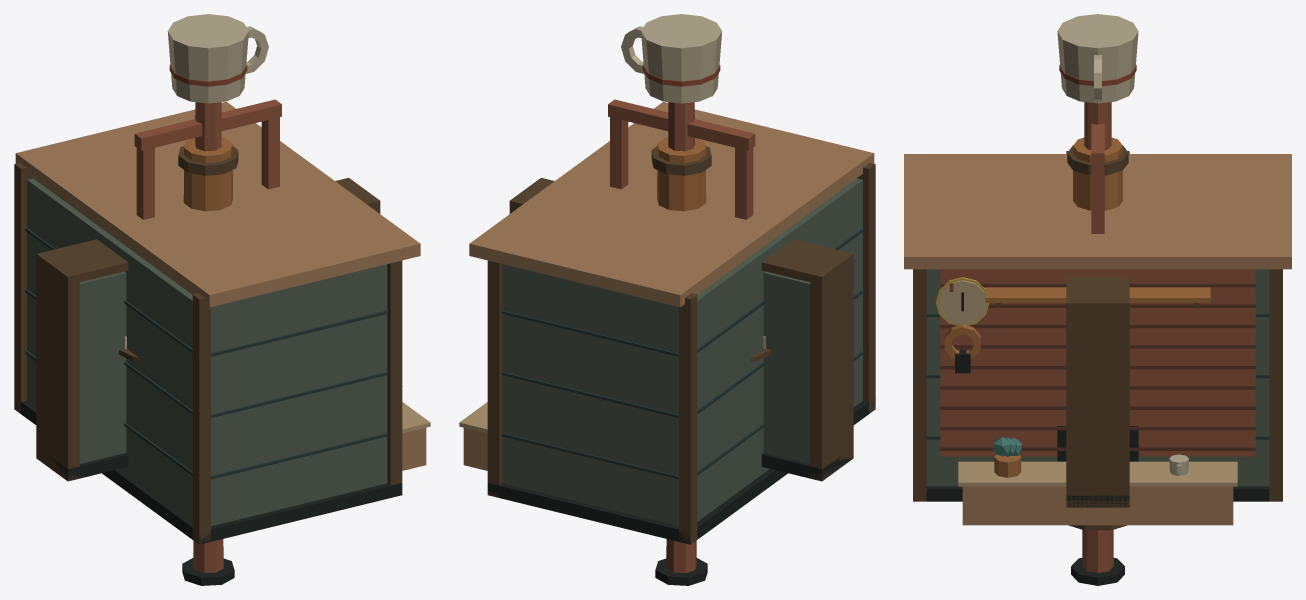
File: bay_kit.glb
3 renders of one model, left to right at view 1: azimuth 30°, elevation 25°; view 2: azimuth 150°, elevation 25°; view 3: azimuth 270°, elevation 25°, orthographic.
Parts seen in each view (by area): view 1: BayCabin, BayYardWall, CradleMast, BayBellFrame, BayPost; view 2: BayCabin, BayYardWall, CradleMast, BayBellFrame, BayPost; view 3: BayCabin, BayYardWall, CradleMast, BayPost, BayBellFrame.
Boxes of the visible parts, x1,y1,x2,y2 form: BayCabin: [14, 102, 430, 544]; BayYardWall: [36, 177, 380, 481]; CradleMast: [167, 14, 268, 585]; BayBellFrame: [134, 99, 281, 219]; BayPost: [178, 137, 238, 211]; BayCabin: [459, 102, 875, 544]; BayYardWall: [509, 177, 853, 481]; CradleMast: [621, 14, 722, 585]; BayBellFrame: [608, 99, 755, 219]; BayPost: [651, 137, 711, 211]; BayCabin: [904, 154, 1291, 525]; BayYardWall: [1066, 151, 1129, 507]; CradleMast: [1057, 14, 1138, 585]; BayPost: [1067, 137, 1128, 530]; BayBellFrame: [1091, 123, 1104, 233].
Bounding box in the file's own units: 8 × 13.3 × 8.6.
